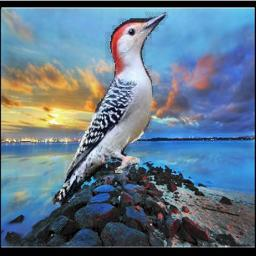Woodpecker: (51, 11, 168, 205)
